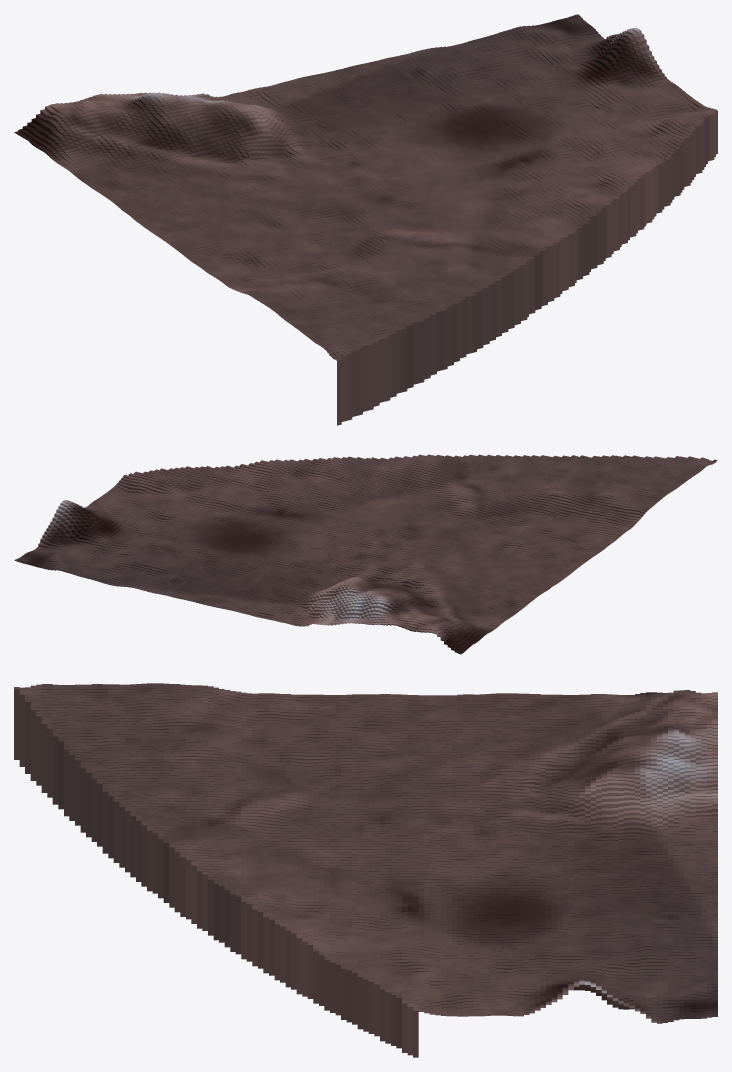
File: chunk-40.glb
The picture shows the model from 3 angles, top to bottom: view 1: azimuth 30°, elevation 25°; view 2: azimuth 150°, elevation 25°; view 3: azimuth 270°, elevation 25°; orthographic projection. The views are drawn at different scales.
Visible parts, largest first — view 1: Mesh_0.056; view 2: Mesh_0.056; view 3: Mesh_0.056.
Part boxes in pixels (box(x1,y1,x2,y2)): Mesh_0.056: box(14, 14, 717, 425); Mesh_0.056: box(14, 454, 717, 654); Mesh_0.056: box(14, 683, 717, 1057).
Bounding box in the file's own units: 32000 × 4344 × 31750.
